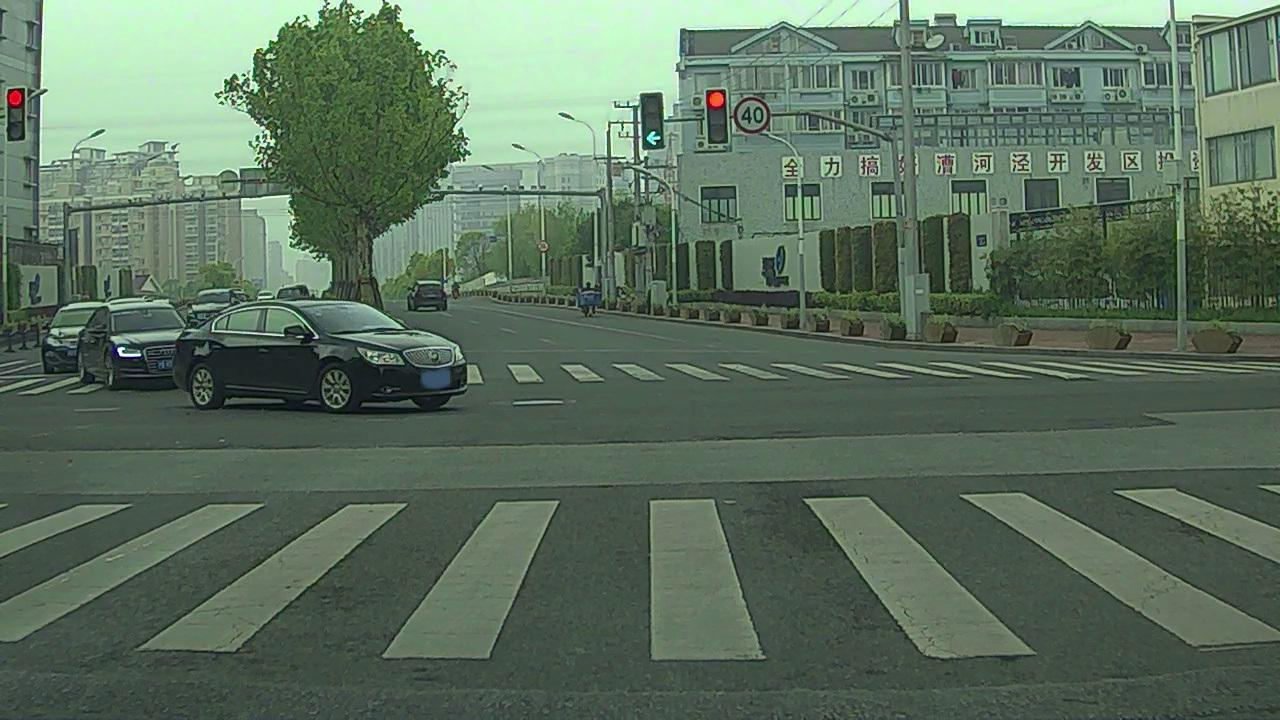traffic_light: (641, 94, 664, 148), (707, 89, 729, 144), (6, 88, 26, 143)
